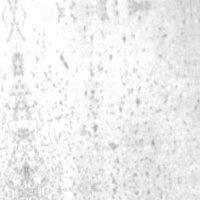pitted_surface: (15, 2, 199, 192)
